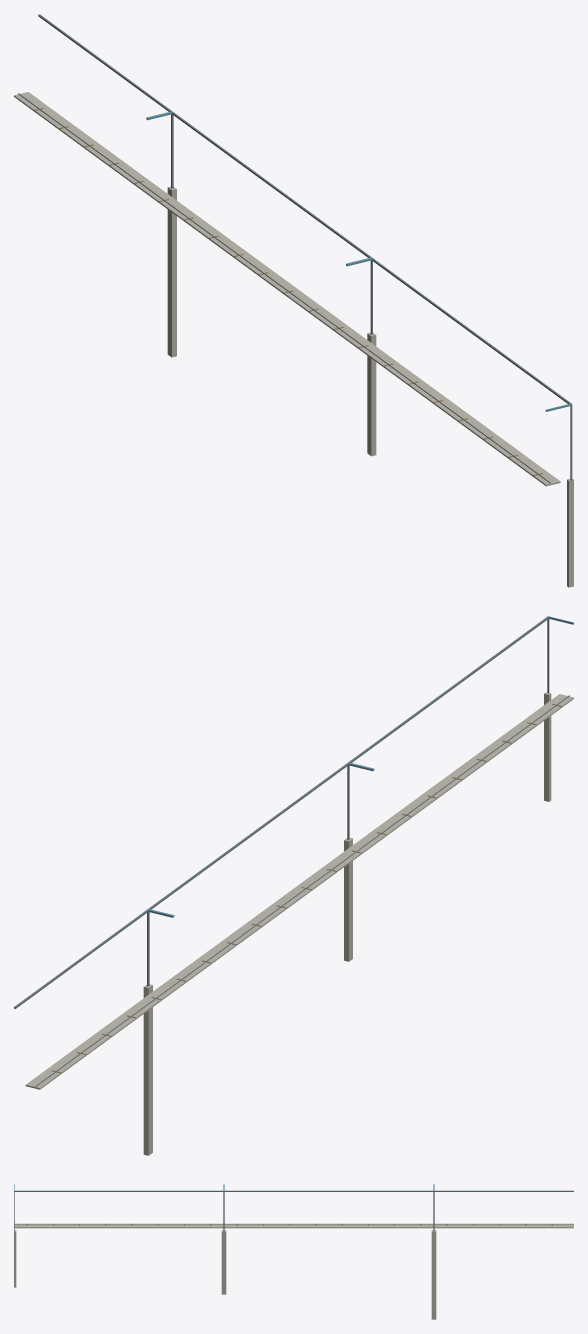
File: valley-8-8.glb
3 renders of one model, top to bottom at view 1: azimuth 30°, elevation 25°; view 2: azimuth 150°, elevation 25°; view 3: azimuth 270°, elevation 25°, orthographic. The views are drawn at different scales.
Parts seen in each view (by area): view 1: valley-8-8; view 2: valley-8-8; view 3: valley-8-8.
Part boxes in pixels (bbox=[...]): valley-8-8: bbox=[14, 14, 573, 587]; valley-8-8: bbox=[14, 616, 573, 1155]; valley-8-8: bbox=[14, 1184, 573, 1319].
Bounding box in the file's own units: 7.7 × 64.63 × 256.
